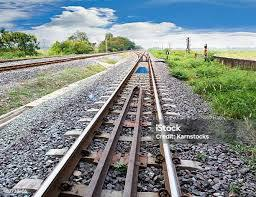Color_steel: (134, 65, 150, 75)
Plastic: (87, 92, 96, 98)
